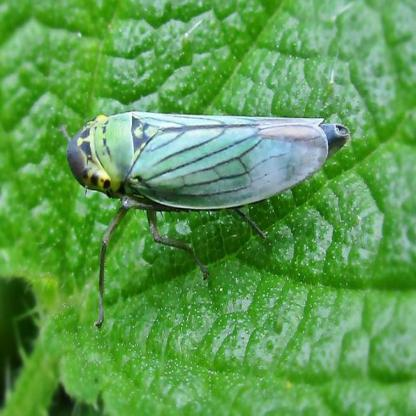Green-Leafhopper: (63, 107, 355, 315)
